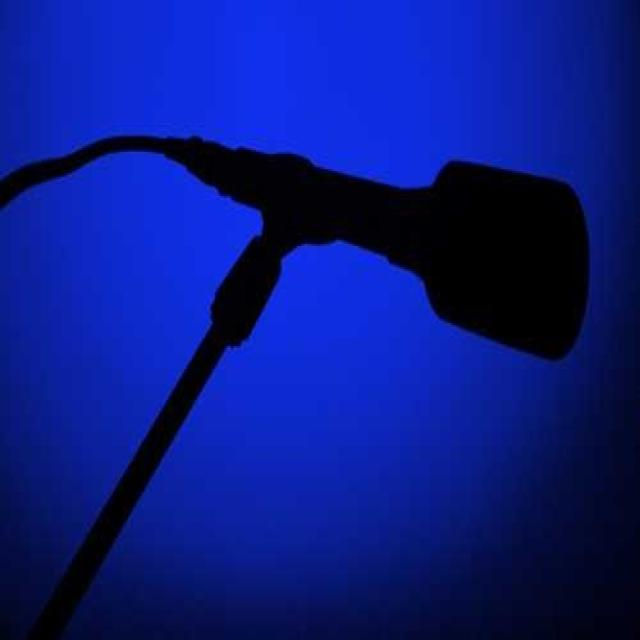microphone: (242, 140, 598, 364)
